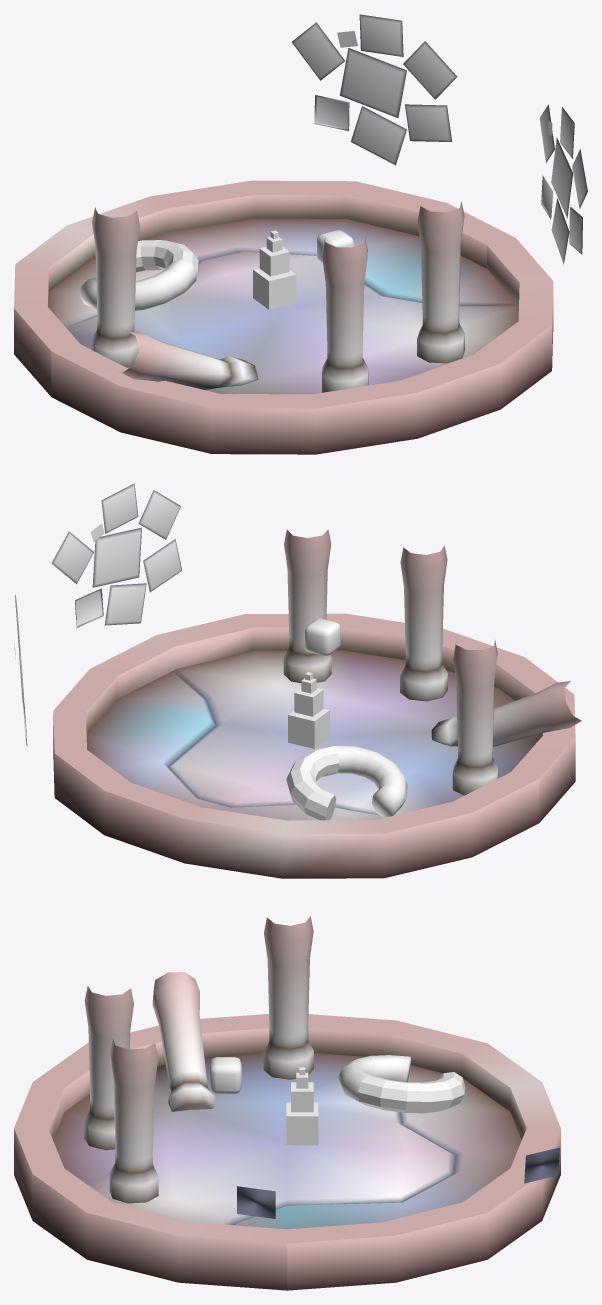
3 views of the same model, one above another, from view 1: azimuth 30°, elevation 25°; view 2: azimuth 150°, elevation 25°; view 3: azimuth 270°, elevation 25° (orthographic). The views are drawn at different scales.
Visible parts, largest first — view 1: floor.001, floor.002, floor, Cube.001, Pillar.001, Pillar, Pillar.002, Pillar.003, Cube.003, Cube, Cube.002, Cube.004; view 2: floor.001, floor, floor.002, Cube.003, Pillar.002, Pillar, Cube, Pillar.001, Pillar.003, Cube.002, Cube.004; view 3: floor.001, floor, floor.002, Pillar, Pillar.001, Pillar.003, Cube, Pillar.002, Cube.002, Cube.004, Cube.003, Cube.001.
Part boxes in pixels (x1,y1,x2,y2): floor.001: (48,218,518,394); floor.002: (51,238,553,454); floor: (14,180,515,396); Cube.001: (292,14,457,165); Pillar.001: (417,202,464,363); Pillar: (91,207,139,367); Pillar.002: (322,236,368,392); Pillar.003: (114,331,258,389); Cube.003: (539,104,587,264); Cube: (79,240,198,311); Cube.002: (253,230,296,309); Cube.004: (317,230,353,263); floor.001: (86,650,542,820); floor: (53,669,539,878); floor.002: (90,613,575,822); Cube.003: (51,483,182,627); Pillar.002: (400,545,447,701); Pillar: (452,640,497,795); Cube: (286,745,407,820); Pillar.001: (283,529,331,683); Pillar.003: (431,681,581,746); Cube.002: (288,672,329,748); Cube.004: (305,618,340,655); floor.001: (53,1053,521,1229); floor: (287,1014,560,1290); floor.002: (14,1014,287,1290); Pillar: (263,916,313,1079); Pillar.001: (109,1039,158,1203); Pillar.003: (152,972,214,1111); Cube: (338,1055,465,1113); Pillar.002: (84,986,133,1150); Cube.002: (286,1067,318,1145); Cube.004: (210,1057,241,1093); Cube.003: (237,1186,275,1218); Cube.001: (524,1147,559,1183).
Size of the model in its own units: 36.89 by 14.06 by 36.24.
